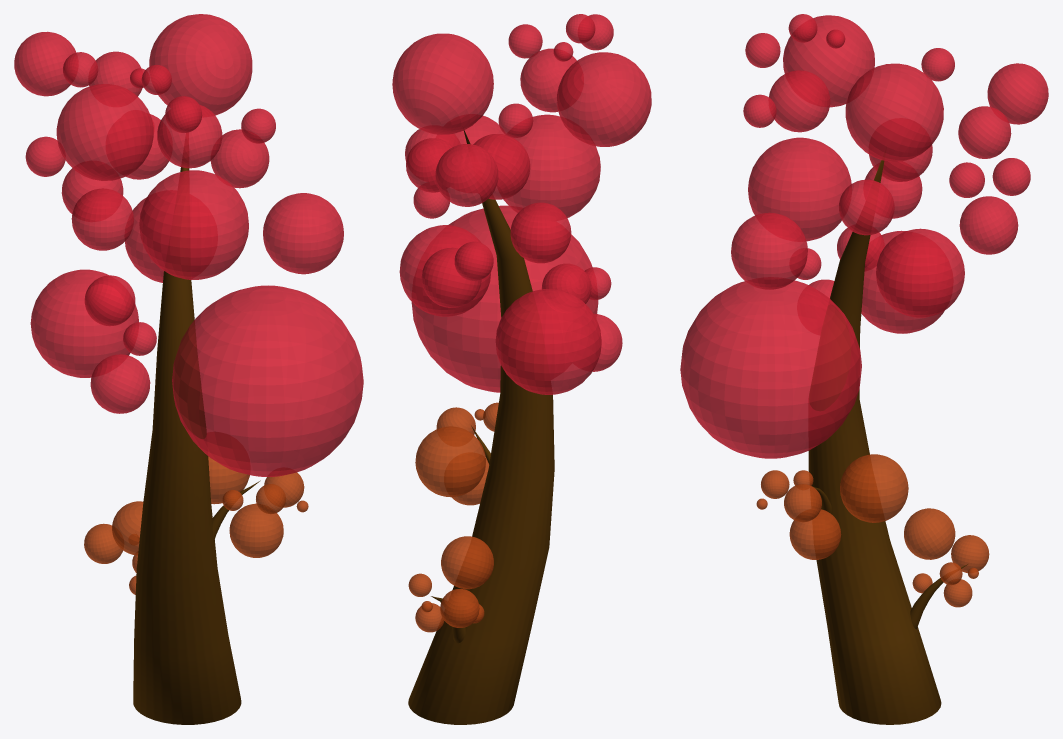
The model's file is arbre.fbx.
3 renders of one model, left to right at view 1: azimuth 30°, elevation 25°; view 2: azimuth 150°, elevation 25°; view 3: azimuth 270°, elevation 25°, orthographic. The views are drawn at different scales.
Parts seen in each view (by area): view 1: Sphere, Cone, Sphere.002; view 2: Sphere, Cone, Sphere.002; view 3: Sphere, Cone, Sphere.002.
Part boxes in pixels (box(x1,y1,x2,y2)): Sphere: box(14, 14, 363, 476); Cone: box(133, 167, 260, 724); Sphere.002: box(84, 456, 308, 594); Sphere: box(392, 14, 651, 394); Cone: box(408, 130, 554, 724); Sphere.002: box(408, 402, 498, 632); Sphere: box(680, 14, 1048, 458); Cone: box(808, 160, 967, 724); Sphere.002: box(756, 454, 989, 607).
Bounding box in the file's own units: 3.98 × 10.17 × 5.2.
